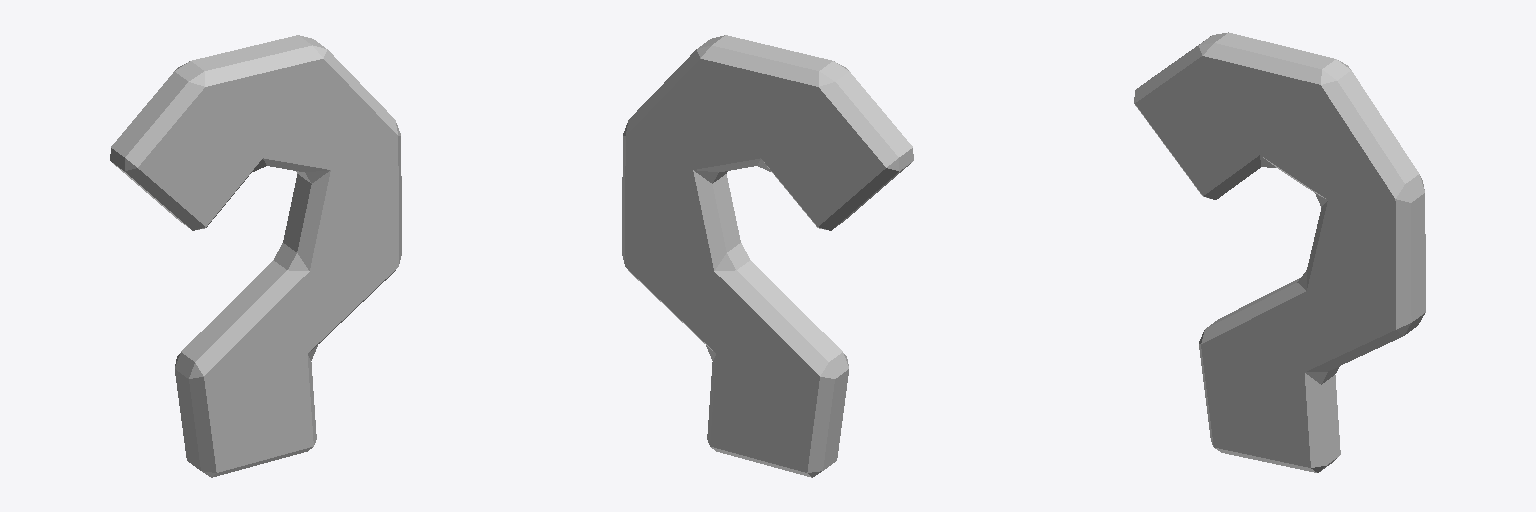
File: questionmarkbody.obj
The picture shows the model from 3 angles: view 1: azimuth 30°, elevation 25°; view 2: azimuth 150°, elevation 25°; view 3: azimuth 330°, elevation 25°; orthographic projection.
Parts seen in each view (by area): view 1: Plane_Plane.004; view 2: Plane_Plane.004; view 3: Plane_Plane.004.
Part boxes in pixels (left/top/right/bottom): Plane_Plane.004: left=110, top=35, right=401, bottom=477; Plane_Plane.004: left=622, top=35, right=913, bottom=477; Plane_Plane.004: left=1134, top=32, right=1425, bottom=472.
Bounding box in the file's own units: 1.65 × 2.33 × 0.2779.